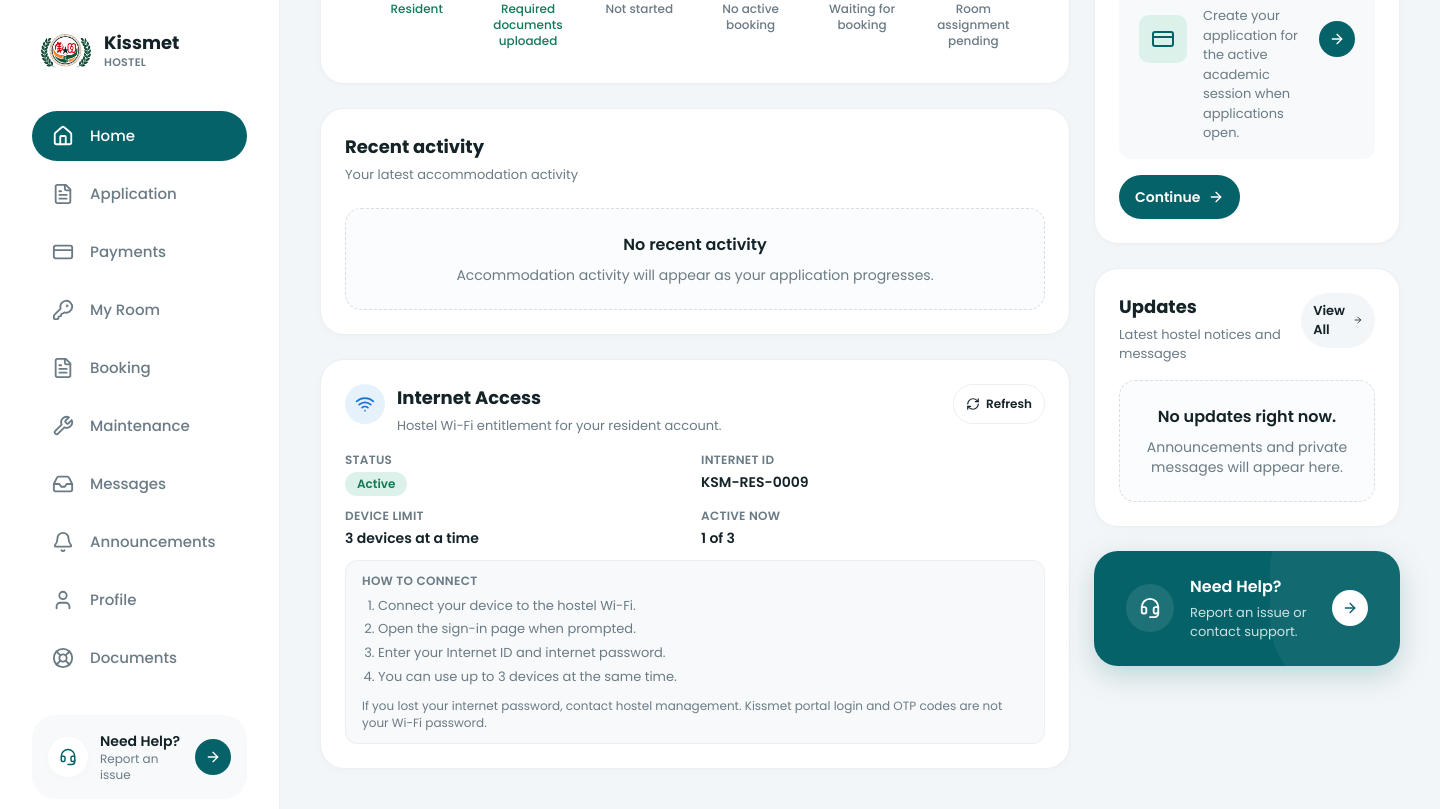
Test: Home Internet Access card › locks Refresh while a sessions request is in flight
(page scrolled)
Expected: the text "1 of 3" is shown, [701, 528, 735, 548]
Click the button with aria-label "Refresh active devices" at (999, 404), box [953, 384, 1045, 424]
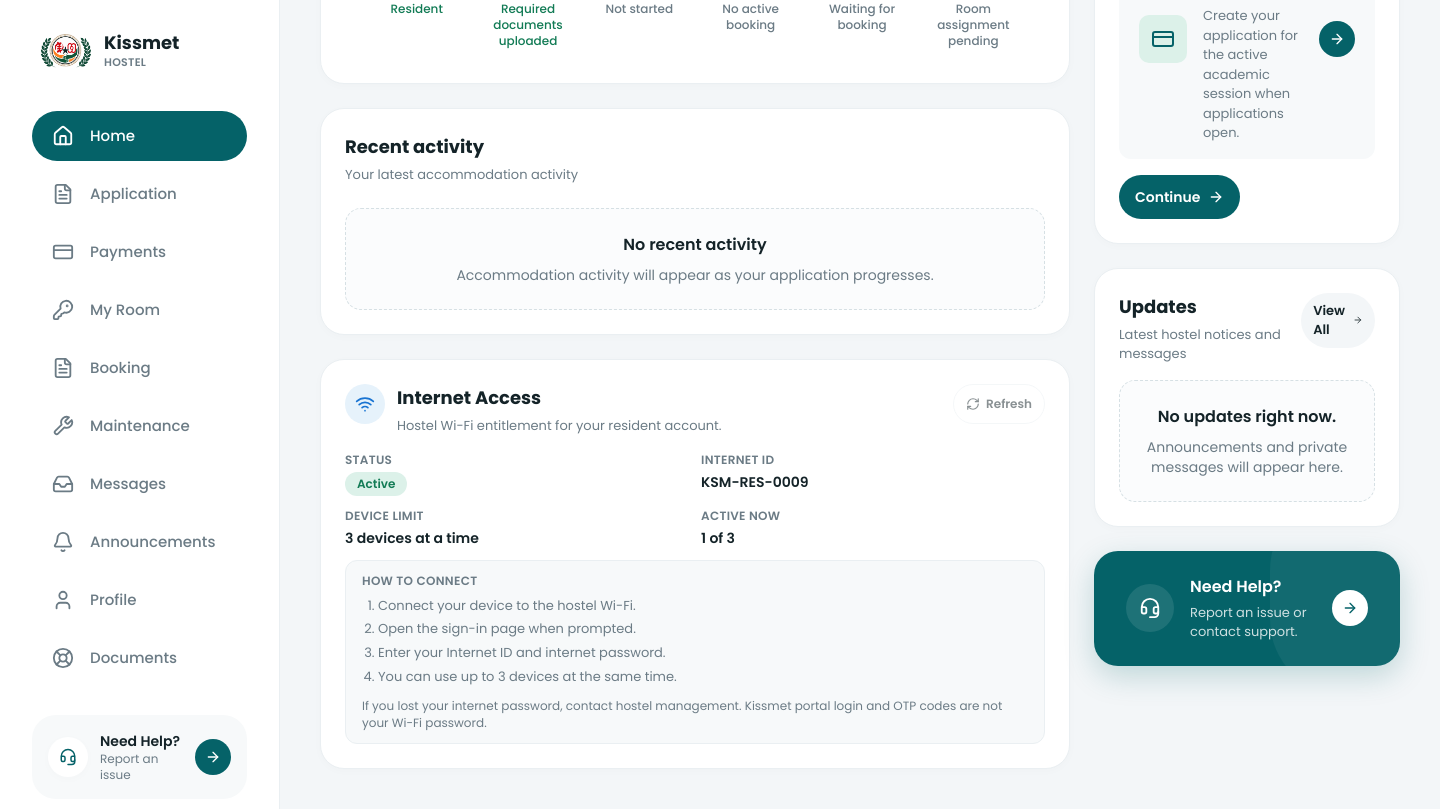
Expected: the button with aria-label "Refresh active devices" is disabled
Click the button with aria-label "Refresh active devices" at (999, 404), box [953, 384, 1045, 424]
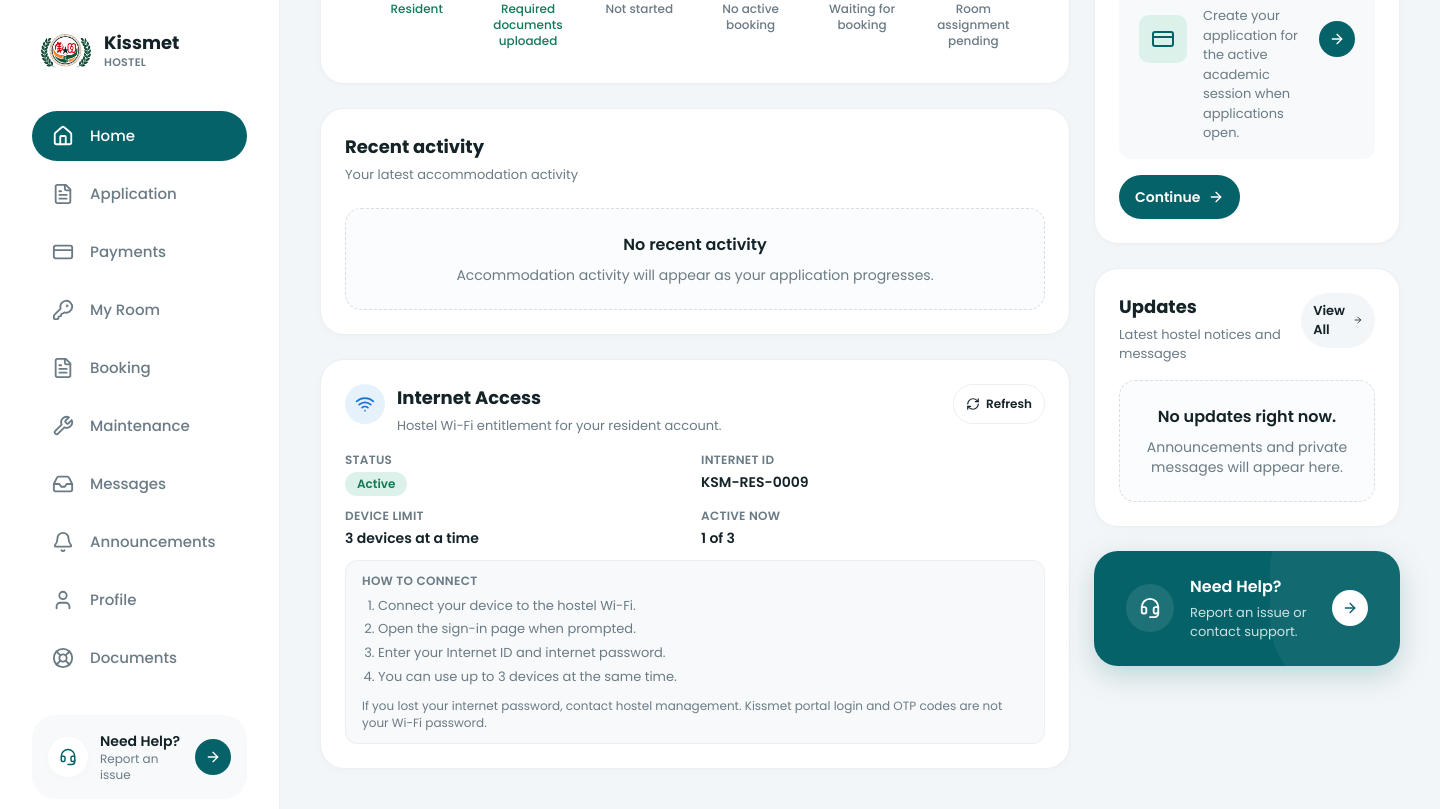
Expected: the button with aria-label "Refresh active devices" is enabled, [953, 384, 1045, 424]
